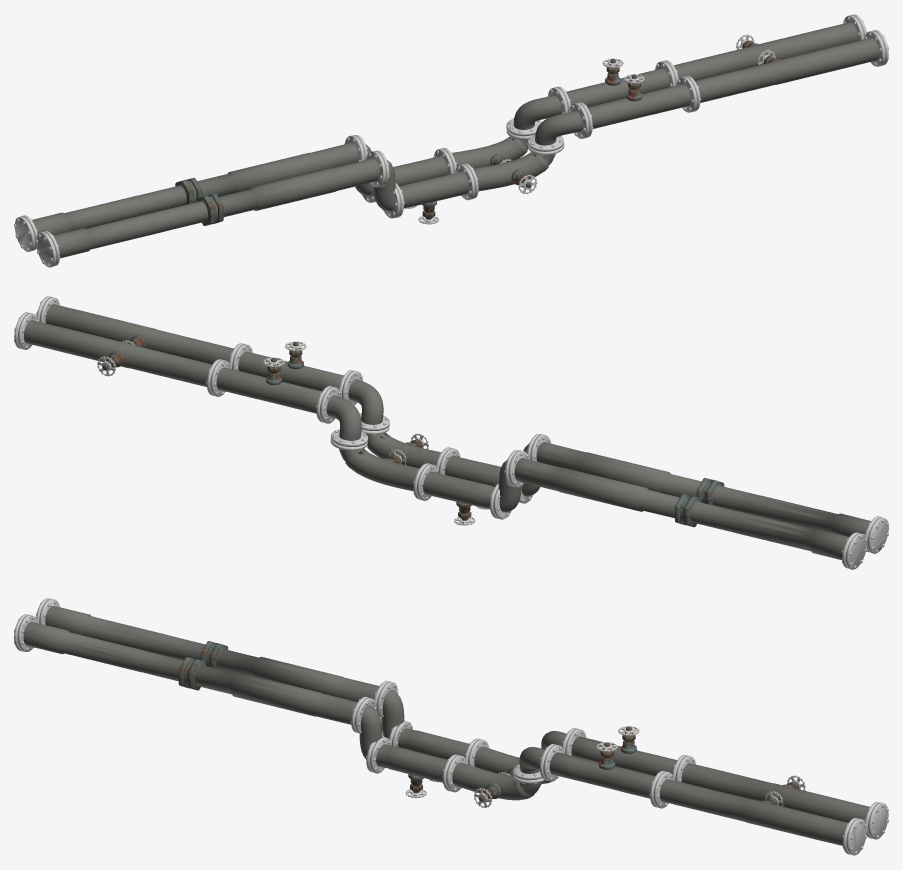
The model's file is Pipes2V2obj.obj.
The picture shows the model from 3 angles, top to bottom: view 1: azimuth 30°, elevation 25°; view 2: azimuth 150°, elevation 25°; view 3: azimuth 330°, elevation 25°; orthographic projection. The views are drawn at different scales.
Visible parts, largest first — view 1: Pipes2obj; view 2: Pipes2obj; view 3: Pipes2obj.
Boxes of the visible parts, left/top/right/bottom form: Pipes2obj: left=14, top=14, right=888, bottom=267; Pipes2obj: left=14, top=296, right=888, bottom=569; Pipes2obj: left=14, top=598, right=888, bottom=855.
Bounding box in the file's own units: 21.01 × 2.59 × 2.16.
Materials: 4 (2 with a texture image).
